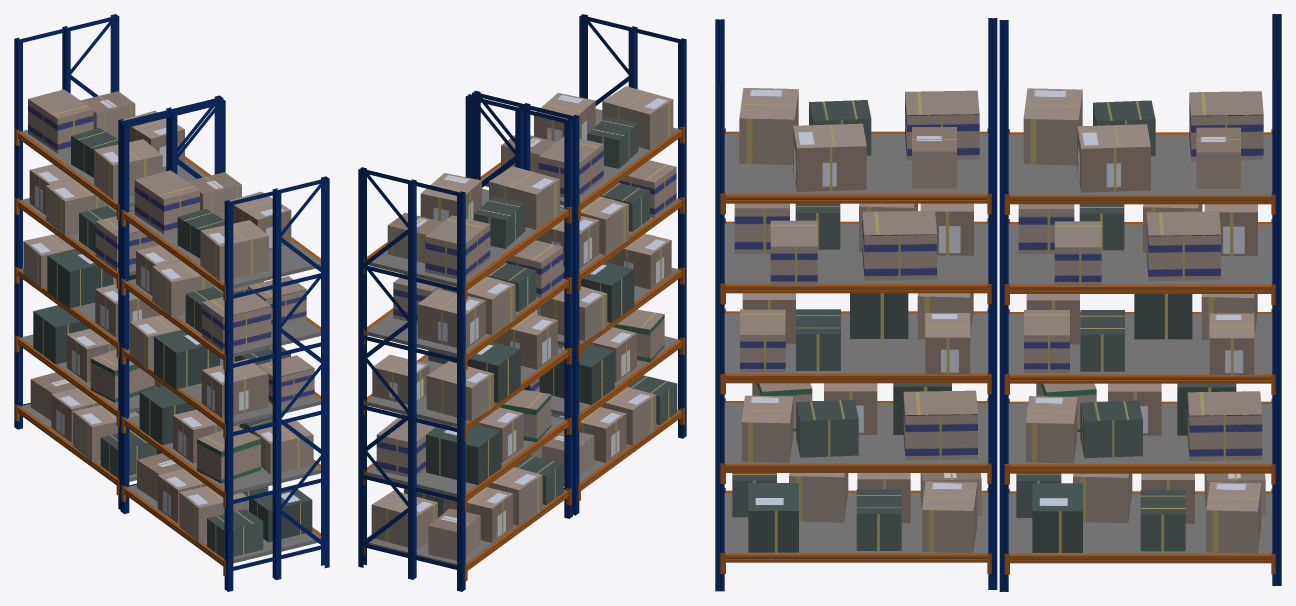
Rendered from storage-rack.glb.
3 views of the same model, side by side, from view 1: azimuth 30°, elevation 25°; view 2: azimuth 150°, elevation 25°; view 3: azimuth 270°, elevation 25° (orthographic). The views are drawn at different scales.
Visible parts, largest first — view 1: mezanine racking.006, mezanine racking.007, mezanine racking.003, mezanine racking.001, mezanine racking.004, dus.390, dus.005, dus.391, dus.387, dus.400, dus.017, dus.402 (+36 smaller); view 2: mezanine racking.004, mezanine racking.003, mezanine racking.007, mezanine racking.002, mezanine racking.006, mezanine racking.001, dus.012, dus.005, dus.001, dus.391, dus.016, dus.006 (+36 smaller); view 3: mezanine racking.003, mezanine racking.007, mezanine racking.004, mezanine racking.001, mezanine racking.006, mezanine racking.002, dus.021, dus.406, dus.024, dus.409, dus.029, dus.414 (+52 smaller).
Part boxes in pixels (left/top/right/bottom): mezanine racking.006: left=224, top=176, right=329, bottom=591; mezanine racking.007: left=121, top=210, right=320, bottom=576; mezanine racking.003: left=14, top=129, right=210, bottom=495; mezanine racking.001: left=120, top=98, right=225, bottom=513; mezanine racking.004: left=14, top=14, right=119, bottom=429; dus.390: left=134, top=170, right=199, bottom=234; dus.005: left=28, top=89, right=93, bottom=153; dus.391: left=200, top=220, right=268, bottom=281; dus.387: left=202, top=290, right=271, bottom=352; dus.400: left=201, top=358, right=268, bottom=418; dus.017: left=47, top=249, right=113, bottom=308; dus.402: left=154, top=330, right=219, bottom=389; mezanine racking.004: left=358, top=167, right=465, bottom=591; mezanine racking.003: left=363, top=188, right=571, bottom=581; mezanine racking.007: left=477, top=108, right=684, bottom=501; mezanine racking.002: left=465, top=94, right=572, bottom=518; mezanine racking.006: left=579, top=14, right=686, bottom=438; mezanine racking.001: left=472, top=90, right=579, bottom=515; dus.012: left=426, top=423, right=501, bottom=484; dus.005: left=425, top=215, right=490, bottom=278; dus.001: left=417, top=289, right=485, bottom=348; dus.391: left=602, top=86, right=673, bottom=149; dus.016: left=426, top=361, right=493, bottom=421; dus.006: left=489, top=166, right=559, bottom=229; mezanine racking.003: left=1004, top=129, right=1275, bottom=574; mezanine racking.007: left=720, top=128, right=991, bottom=573; mezanine racking.004: left=1272, top=14, right=1281, bottom=585; mezanine racking.001: left=988, top=18, right=997, bottom=589; mezanine racking.006: left=715, top=19, right=724, bottom=591; mezanine racking.002: left=999, top=20, right=1008, bottom=591; dus.021: left=1187, top=391, right=1262, bottom=461; dus.406: left=903, top=390, right=977, bottom=460; dus.024: left=1146, top=211, right=1220, bottom=281; dus.409: left=862, top=210, right=936, bottom=280; dus.029: left=1077, top=124, right=1150, bottom=192; dus.414: left=793, top=123, right=866, bottom=191.
Bounding box in the file's own units: 1.21 × 4.3 × 4.29.
4 materials, 1 textured.
